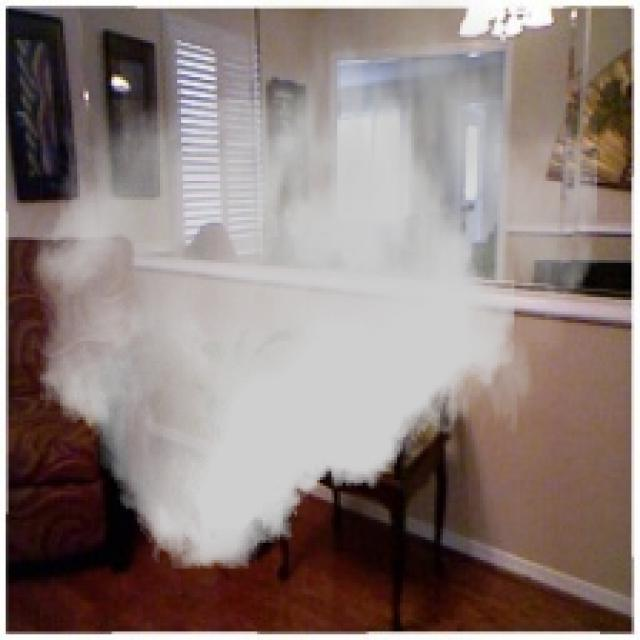smoke: (32, 0, 597, 569)
